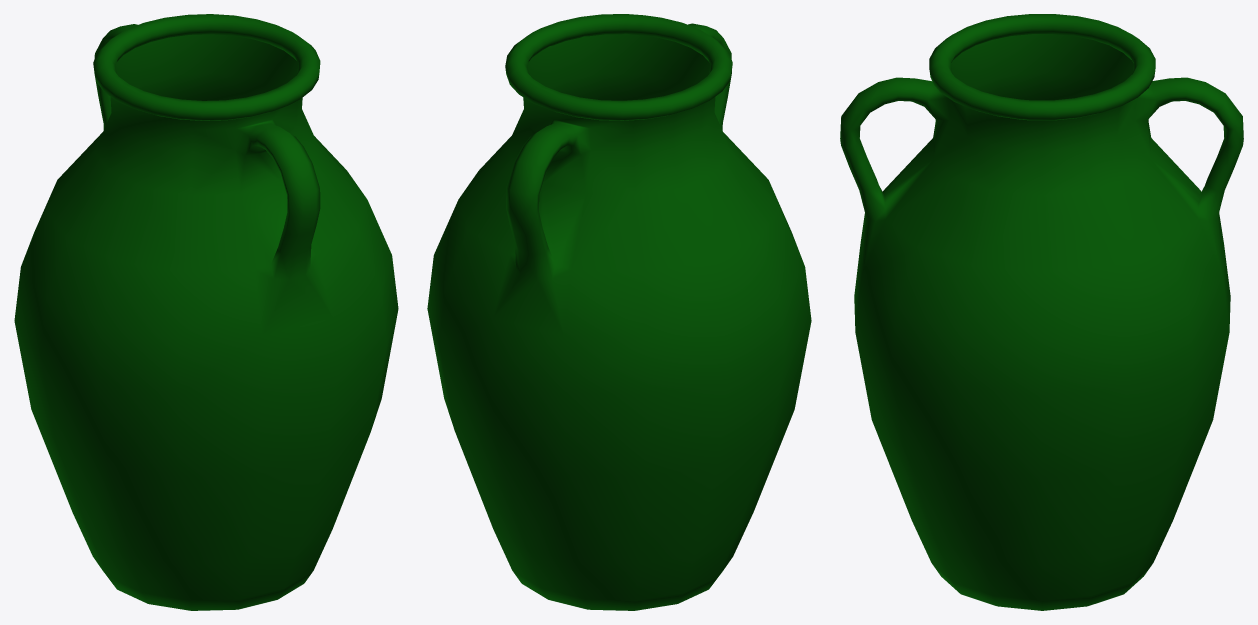
Rendered from jug03.FBX.
3 views of the same model, side by side, from view 1: azimuth 30°, elevation 25°; view 2: azimuth 150°, elevation 25°; view 3: azimuth 270°, elevation 25° (orthographic).
Parts seen in each view (by area): view 1: SM_jug03_0; view 2: SM_jug03_0; view 3: SM_jug03_0.
Boxes of the visible parts, x1,y1,x2,y2 form: SM_jug03_0: [14, 14, 398, 610]; SM_jug03_0: [427, 14, 811, 610]; SM_jug03_0: [840, 14, 1243, 610].
Bounding box in the file's own units: 28.57 × 29.97 × 41.62.
